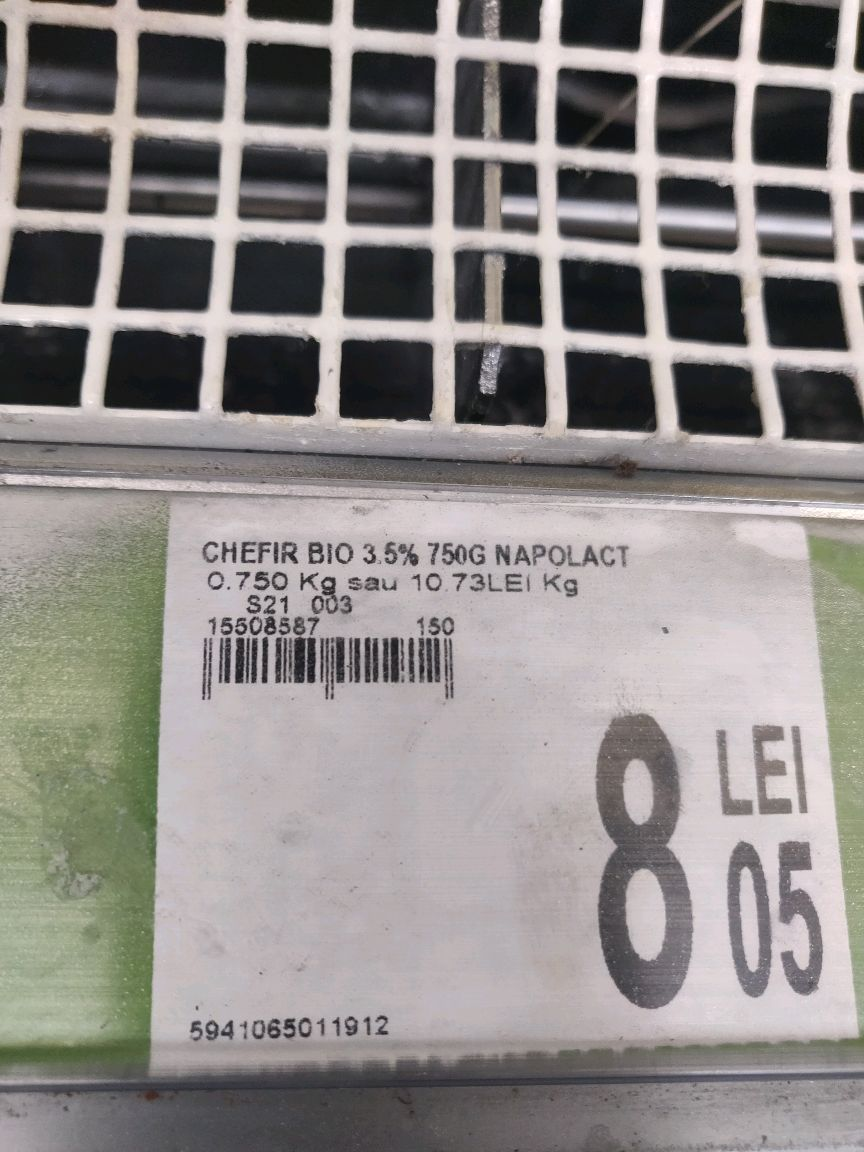price_bani: (717, 832, 833, 1015)
price_lei: (585, 696, 698, 1020)
price_tag: (136, 479, 864, 1092)
product_id: (180, 1009, 400, 1038)
product_name: (184, 537, 656, 568)
